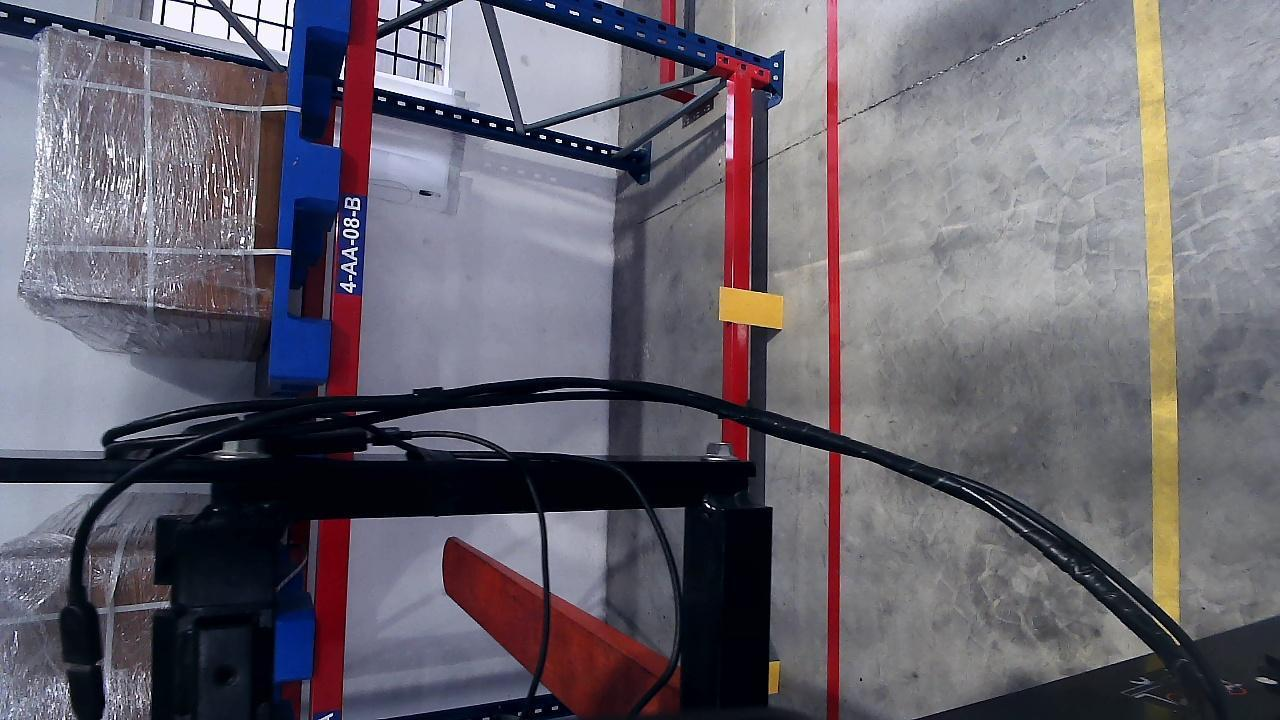red_line: (822, 0, 844, 710)
yellow_line: (1135, 0, 1181, 595)
